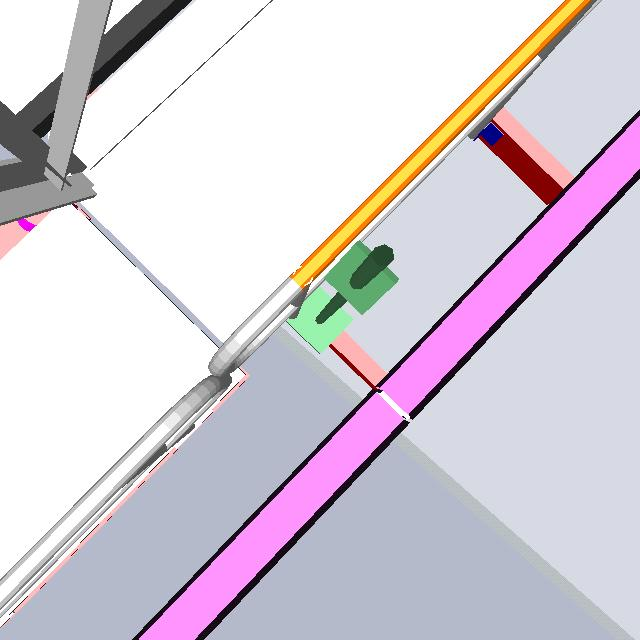Poste: (282, 239, 405, 352)
